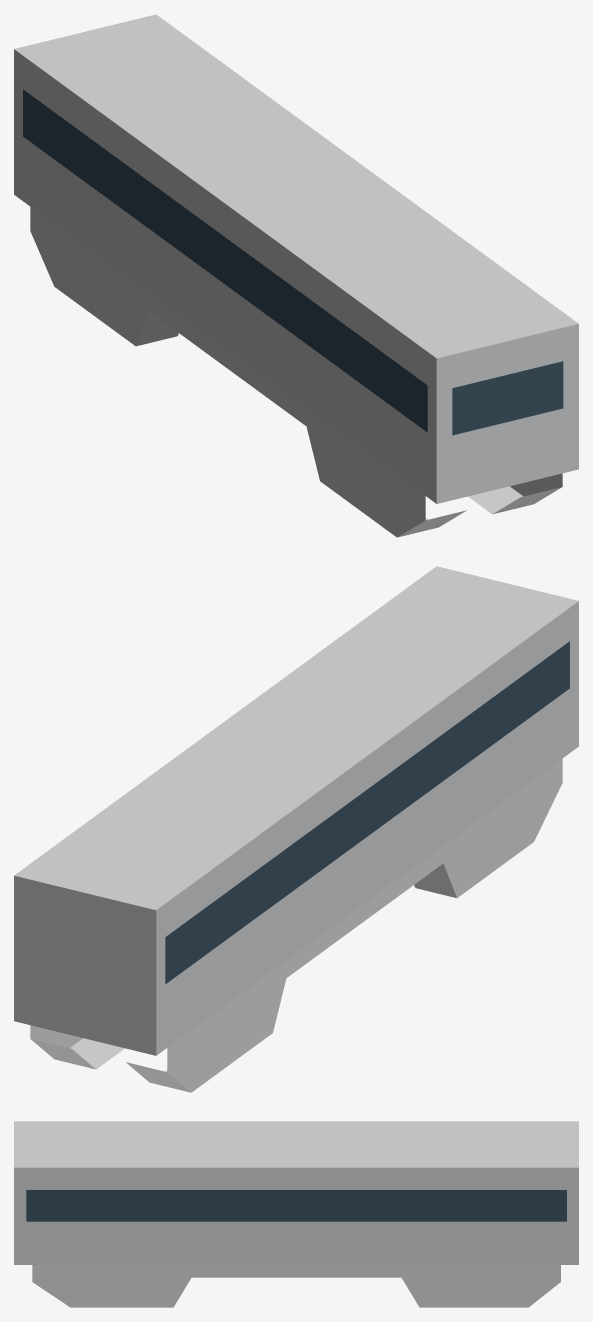
Rendered from 308_far.fbx.
3 renders of one model, top to bottom at view 1: azimuth 30°, elevation 25°; view 2: azimuth 150°, elevation 25°; view 3: azimuth 270°, elevation 25°, orthographic. The views are drawn at different scales.
Parts seen in each view (by area): view 1: 308_far; view 2: 308_far; view 3: 308_far.
Part boxes in pixels (x1,y1,x2,y2): 308_far: (14, 14, 578, 537); 308_far: (14, 566, 578, 1092); 308_far: (14, 1121, 578, 1307).
Bounding box in the file's own units: 2.72 × 3.85 × 14.
